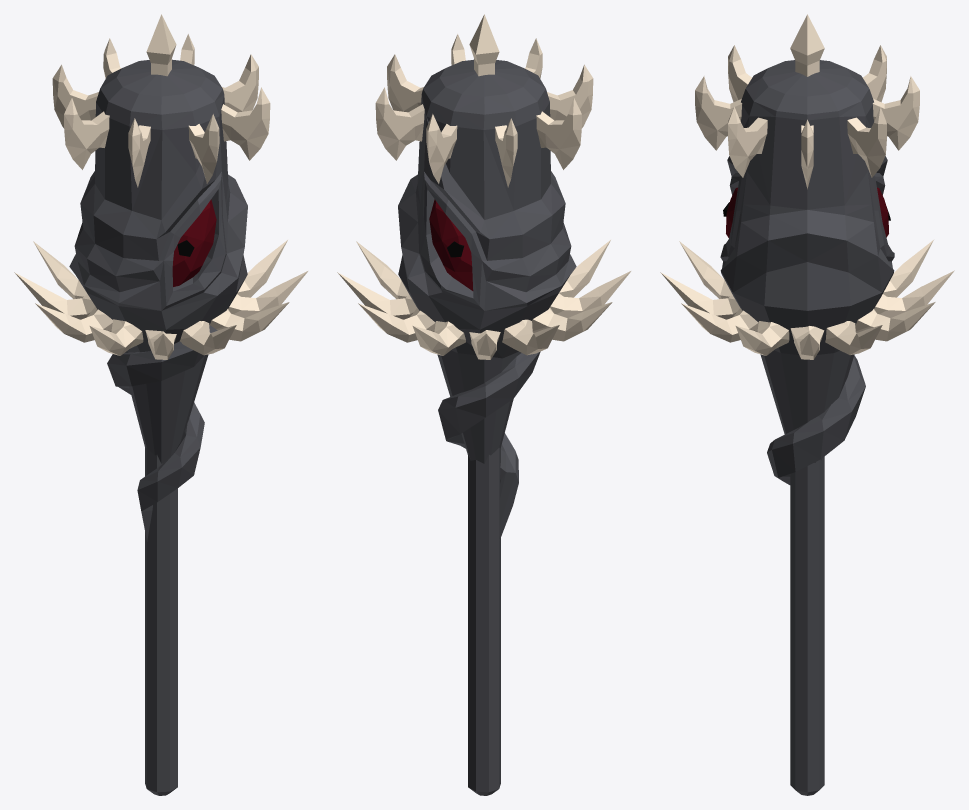
File: hammer_hammer_20.glb
3 views of the same model, side by side, from view 1: azimuth 30°, elevation 25°; view 2: azimuth 150°, elevation 25°; view 3: azimuth 270°, elevation 25° (orthographic).
Visible parts, largest first — view 1: hammer_20; view 2: hammer_20; view 3: hammer_20.
Boxes of the visible parts, x1,y1,x2,y2 form: hammer_20: (14,14,307,795); hammer_20: (337,14,630,795); hammer_20: (660,14,954,795).
Bounding box in the file's own units: 28.54 × 83.12 × 28.54.
Materials: 1 (1 with a texture image).
